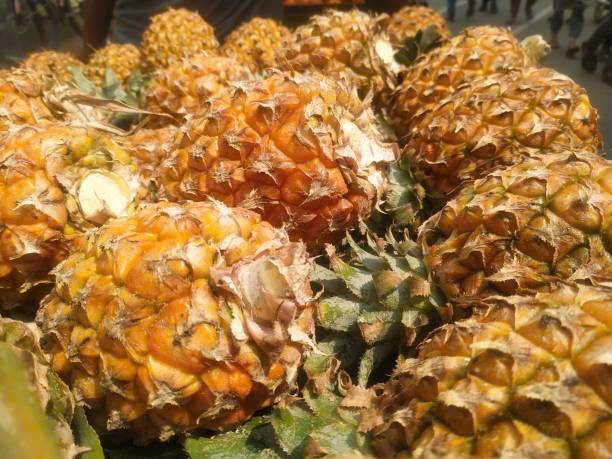pineapple: (30, 194, 317, 448), (323, 153, 612, 377), (150, 55, 417, 232)
